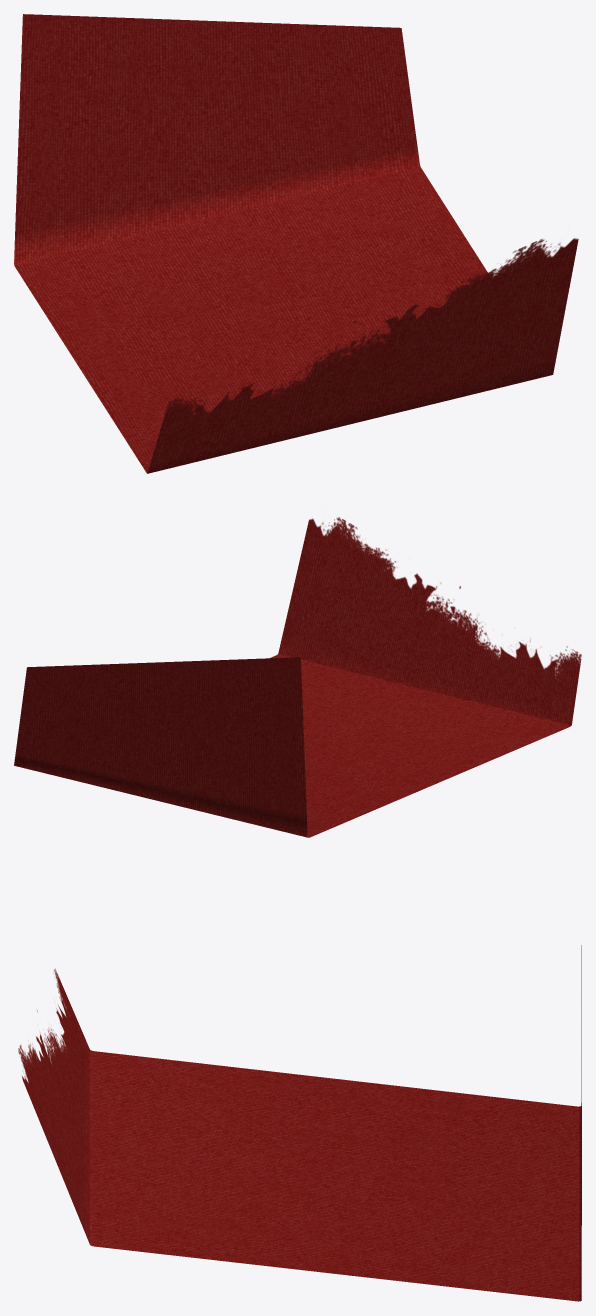
The model's file is cloth.glb.
3 renders of one model, top to bottom at view 1: azimuth 30°, elevation 25°; view 2: azimuth 150°, elevation 25°; view 3: azimuth 270°, elevation 25°, orthographic. The views are drawn at different scales.
Visible parts, largest first — view 1: Cloth; view 2: Cloth; view 3: Cloth.
Part boxes in pixels (x1,y1,x2,y2): Cloth: (14,14,578,473); Cloth: (14,517,581,837); Cloth: (18,945,581,1301).
Size of the model in its own units: 8.37 by 3.81 by 8.
Materials: 1 (1 with a texture image).
